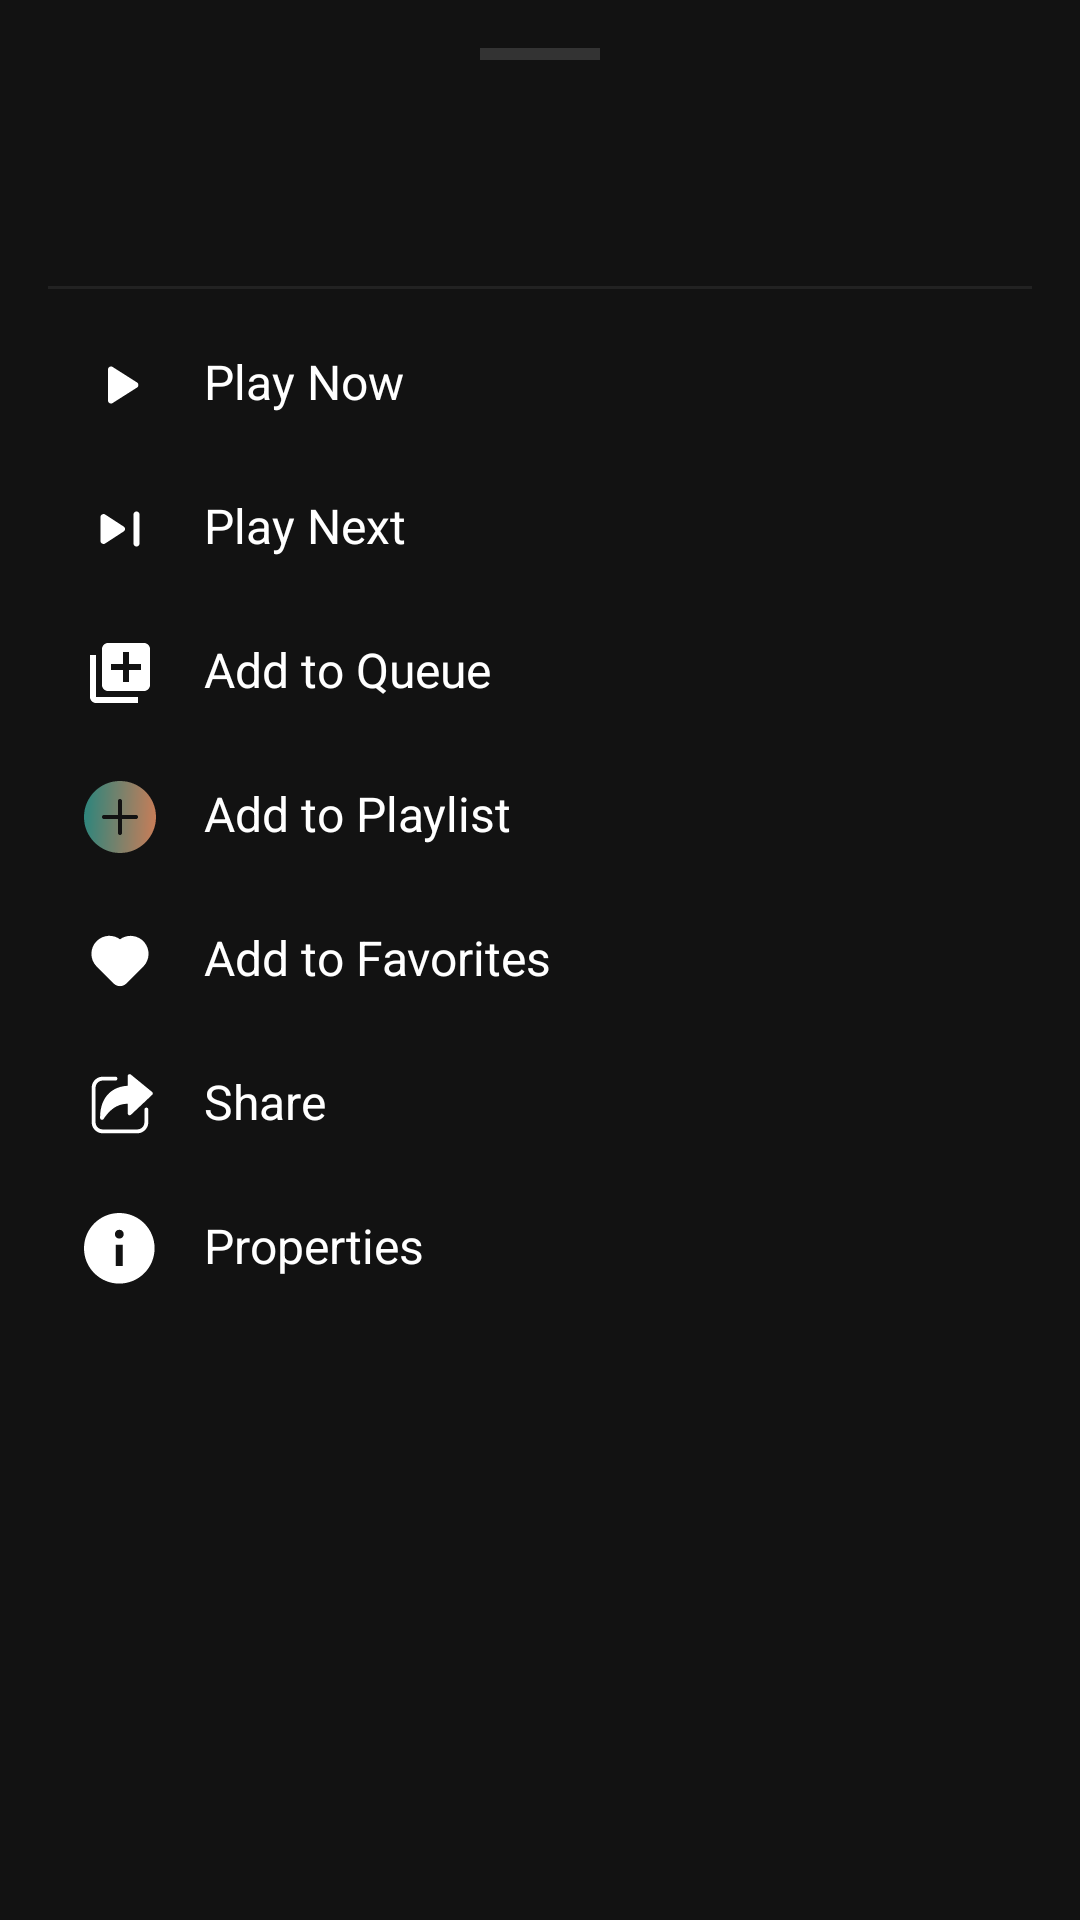

Named icons in this screenshot (1080×1920) and their bounding boxes, (x1, y1, x2, y2):
heart: (91, 935, 149, 986)
info: (84, 1213, 155, 1284)
